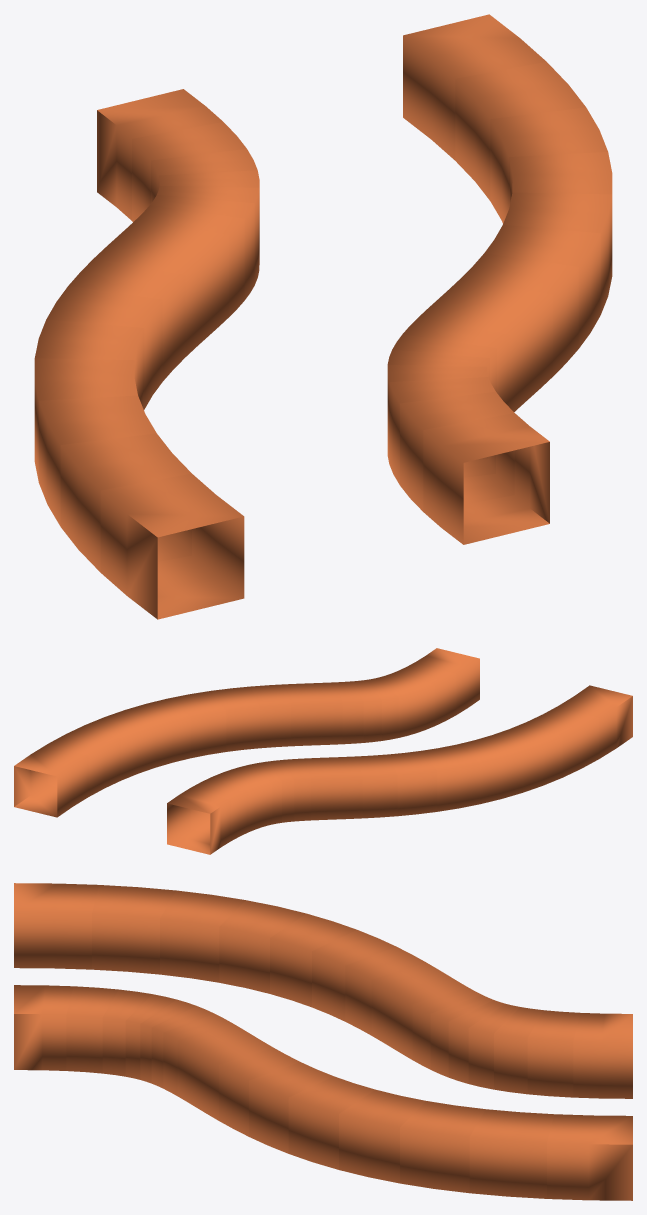
File: RScurveSand.fbx
3 renders of one model, top to bottom at view 1: azimuth 30°, elevation 25°; view 2: azimuth 150°, elevation 25°; view 3: azimuth 270°, elevation 25°, orthographic. The views are drawn at different scales.
Parts seen in each view (by area): view 1: sand.016, sand.017, sand.032, sand.015, sand.031, sand.001, sand.018, sand.014, sand.030, sand.027, sand.026, sand.010 (+20 smaller); view 2: sand.032, sand.001, sand.013, sand.014, sand.015, sand.016, sand.012, sand.031, sand.030, sand.011, sand.029, sand.028 (+20 smaller); view 3: sand.032, sand.016, sand.031, sand.015, sand.030, sand.014, sand.029, sand.001, sand.013, sand.017, sand.028, sand.012 (+20 smaller).
Boxes of the visible parts, x1,y1,x2,y2 form: sand.016: (100, 473, 244, 619); sand.017: (423, 413, 549, 544); sand.032: (403, 14, 546, 160); sand.015: (60, 433, 191, 572); sand.031: (455, 61, 585, 200); sand.001: (97, 89, 222, 220); sand.018: (400, 391, 514, 511); sand.014: (39, 395, 156, 526); sand.030: (490, 107, 607, 223); sand.027: (484, 225, 600, 348); sand.026: (461, 253, 578, 376); sand.010: (68, 258, 185, 381); sand.032: (14, 743, 88, 817); sand.001: (167, 788, 230, 854); sand.013: (457, 735, 522, 804); sand.014: (493, 722, 562, 792); sand.015: (527, 705, 599, 777); sand.016: (559, 685, 632, 758); sand.012: (422, 744, 479, 811); sand.031: (48, 725, 120, 796); sand.030: (86, 710, 155, 780); sand.011: (388, 750, 437, 816); sand.029: (125, 698, 190, 767); sand.028: (168, 691, 226, 758); sand.032: (547, 1114, 632, 1200); sand.016: (14, 883, 98, 969); sand.031: (469, 1109, 554, 1198); sand.015: (92, 885, 176, 974); sand.030: (400, 1101, 485, 1193); sand.014: (160, 890, 245, 982); sand.029: (339, 1089, 425, 1183); sand.001: (573, 1013, 632, 1098); sand.013: (219, 900, 306, 993); sand.017: (14, 985, 73, 1070); sand.028: (288, 1076, 375, 1169); sand.012: (270, 913, 356, 1007).
Size of the model in its own units: 2000 by 200 by 2000.
